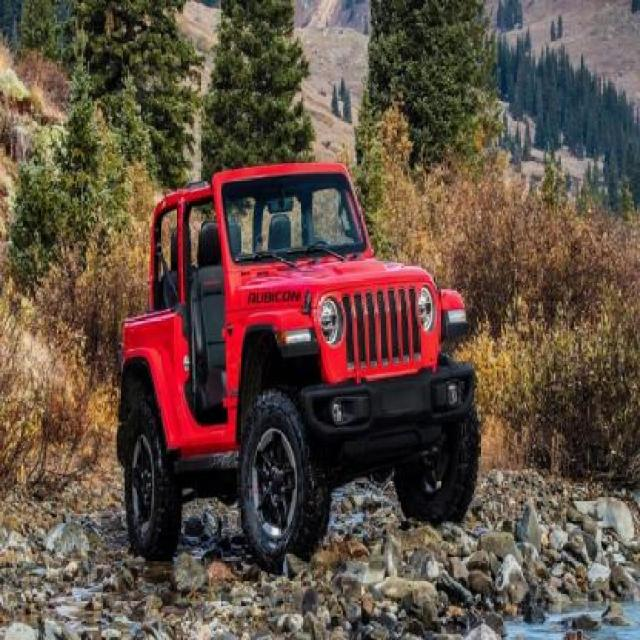Jeep: (114, 153, 480, 564)
